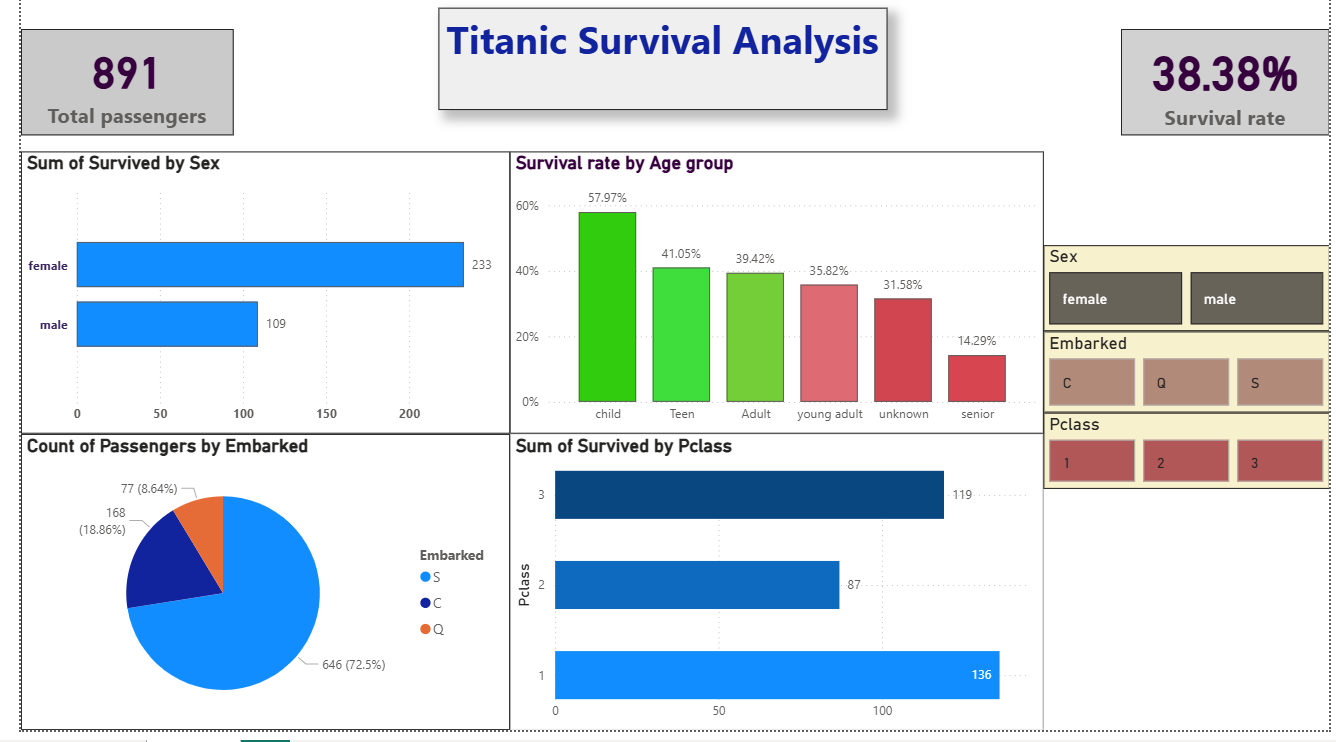

This screenshot's page, from the dashboard's own definition file:
{"tool":"powerbi","page":{"name":"Page 1","canvas":[1280,720],"ordinal":0},"visuals":[{"type":"card","fields":{"Values":["titanic.total passengers"]},"box":[0,34.2,207.9,103.9],"z":0},{"type":"card","fields":{"Values":["titanic.survival rate"]},"box":[1076.1,34.2,204.2,103.9],"z":1000},{"type":"clusteredBarChart","fields":{"Category":["titanic.Pclass"],"Y":["Sum(titanic.Survived)"]},"box":[478.1,430.4,522.1,289.8],"z":2000},{"type":"barChart","fields":{"Category":["titanic.Sex"],"Y":["Sum(titanic.Survived)"]},"box":[0,154.1,478.1,276.4],"z":3000},{"type":"pieChart","fields":{"Category":["titanic.Embarked"],"Y":["CountNonNull(titanic.PassengerId)"]},"box":[0,430.4,478.1,289.8],"z":4000},{"type":"clusteredColumnChart","fields":{"Category":["titanic.Age group"],"Y":["titanic.survival rate"]},"box":[478.1,154.1,522.1,276.4],"z":5000},{"type":"advancedSlicerVisual","fields":{"Values":["titanic.Sex"]},"box":[1000.3,245.8,280,84.4],"z":6000},{"type":"advancedSlicerVisual","fields":{"Values":["titanic.Pclass"]},"box":[1000.3,409.6,280,74.6],"z":7000},{"type":"advancedSlicerVisual","fields":{"Values":["titanic.Embarked"]},"box":[1000.3,330.2,280,79.5],"z":8000},{"type":"textbox","box":[408.4,13.5,439,100.3],"z":9000}]}

Visuals, with their boxes in screenshot pixels (x1, y1, x2, y2), scaled from the page's 1280x720 canvas onto the 1336x742 screenshot:
card - titanic.total passengers: 0/35/217/142
card - titanic.survival rate: 1123/35/1335/142
clusteredBarChart - titanic.Pclass x Sum(titanic.Survived): 499/444/1044/741
barChart - titanic.Sex x Sum(titanic.Survived): 0/159/499/444
pieChart - titanic.Embarked x CountNonNull(titanic.PassengerId): 0/444/499/741
clusteredColumnChart - titanic.Age group x titanic.survival rate: 499/159/1044/444
advancedSlicerVisual - titanic.Sex: 1044/253/1335/340
advancedSlicerVisual - titanic.Pclass: 1044/422/1335/499
advancedSlicerVisual - titanic.Embarked: 1044/340/1335/422
textbox: 426/14/884/117
